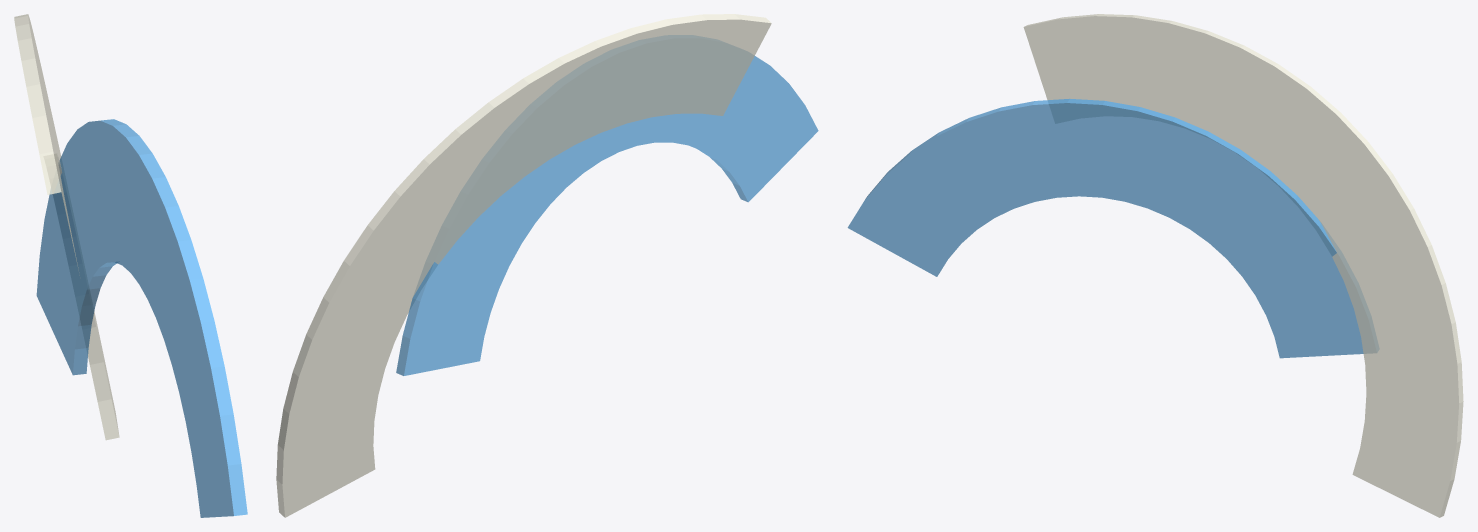
The model's file is vfx_aerial_juggle_trail.glb.
The picture shows the model from 3 angles, left to right: view 1: azimuth 30°, elevation 25°; view 2: azimuth 150°, elevation 25°; view 3: azimuth 270°, elevation 25°; orthographic projection. The views are drawn at different scales.
Parts seen in each view (by area): view 1: air_1, air_2; view 2: air_2, air_1; view 3: air_2, air_1.
Part boxes in pixels (left/top/right/bottom): air_1: left=36, top=119, right=247, bottom=517; air_2: left=14, top=14, right=119, bottom=440; air_2: left=276, top=14, right=771, bottom=517; air_1: left=396, top=35, right=818, bottom=375; air_2: left=1023, top=14, right=1463, bottom=517; air_1: left=847, top=98, right=1378, bottom=358.
Bounding box in the file's own units: 0.8627 × 1.3 × 1.81.
